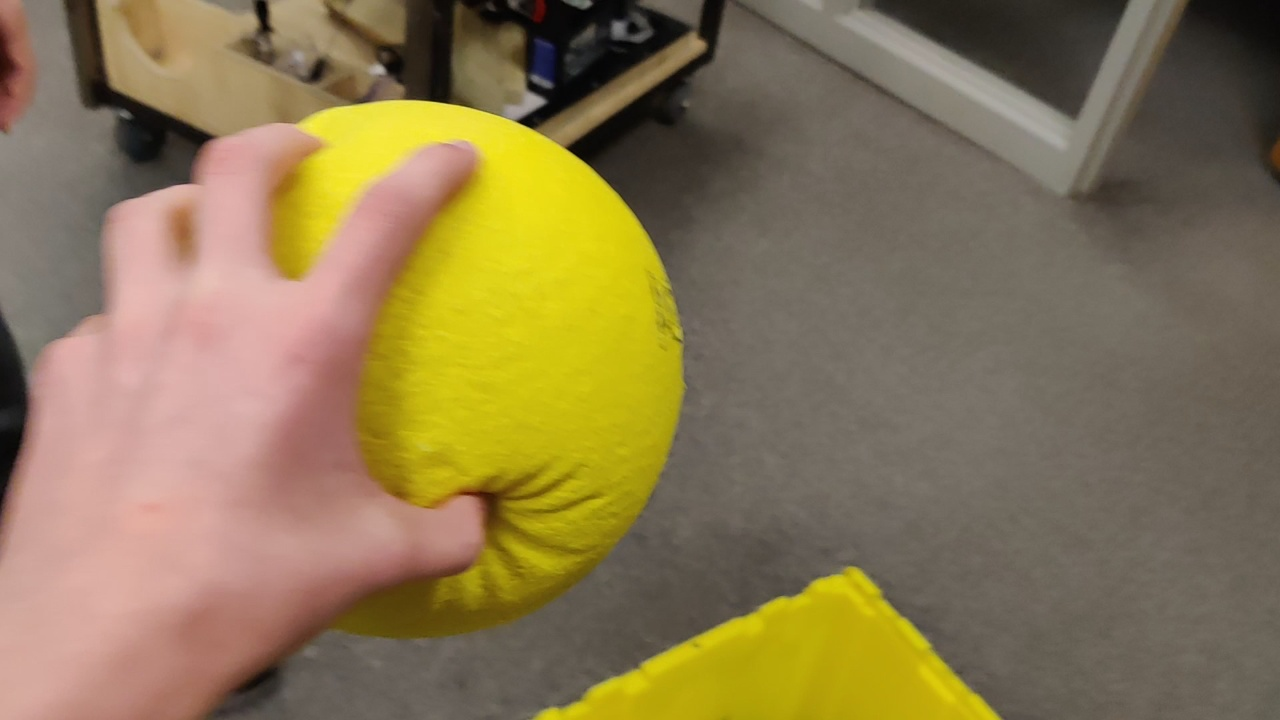Ball: (370, 108, 687, 507)
